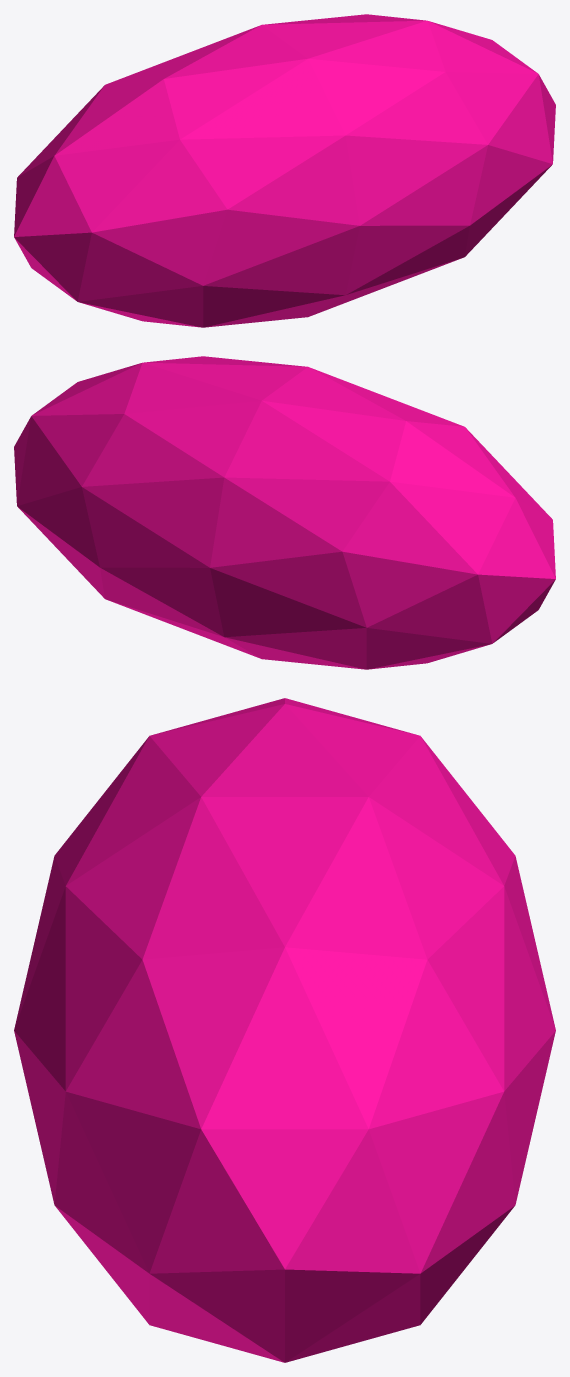
The model's file is torpedo.obj.
The picture shows the model from 3 angles, top to bottom: view 1: azimuth 30°, elevation 25°; view 2: azimuth 150°, elevation 25°; view 3: azimuth 270°, elevation 25°; orthographic projection. The views are drawn at different scales.
Visible parts, largest first — view 1: torpedo; view 2: torpedo; view 3: torpedo.
Boxes of the visible parts, x1=… form: torpedo: x1=14, y1=14, x2=555, y2=327; torpedo: x1=14, y1=356, x2=555, y2=669; torpedo: x1=14, y1=698, x2=555, y2=1362.
Size of the model in its own units: 11.06 by 5.04 by 5.3.
